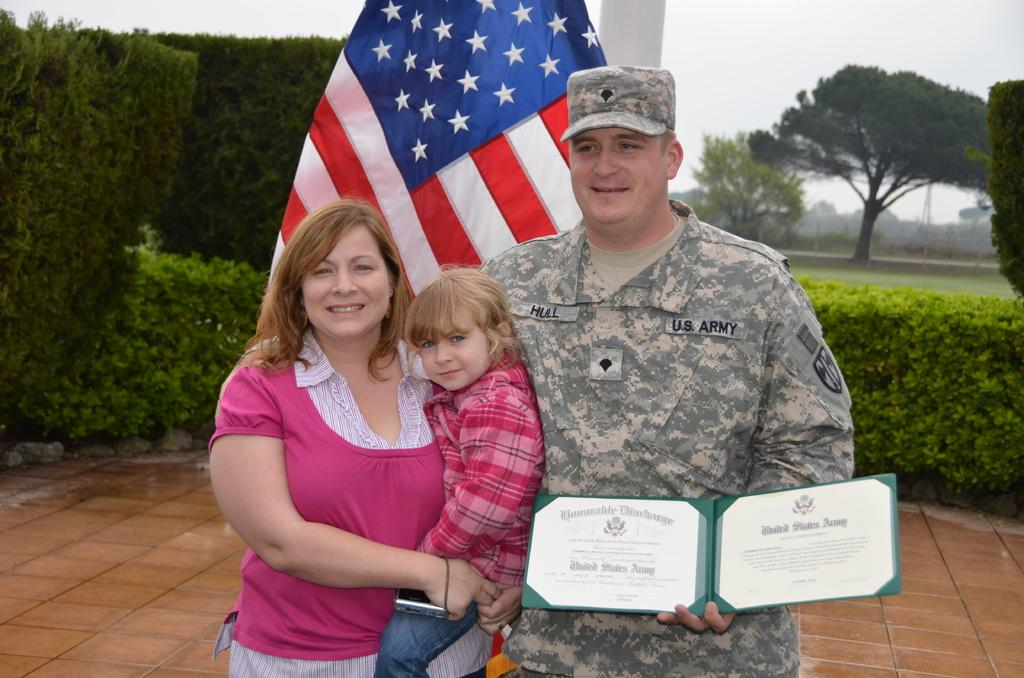Hat: (561, 64, 672, 144)
